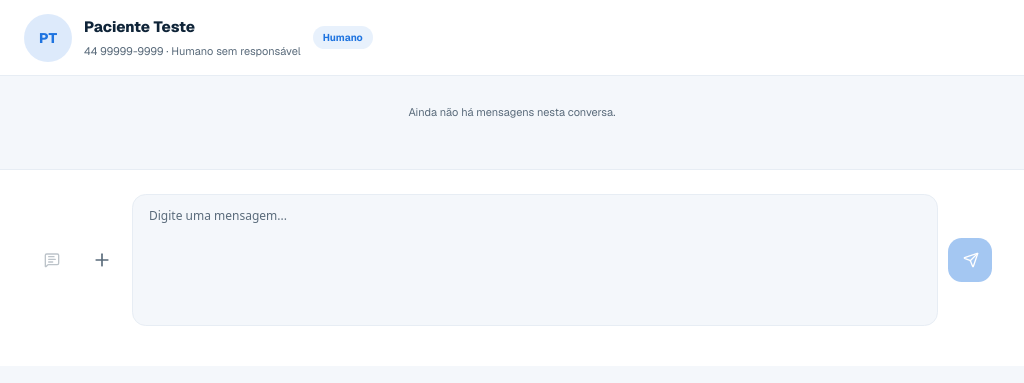
Test: ChatWindow › should_not_mount_or_fetch_meta_templates_for_uazap
The width and height of the screenshot is (1024, 383).
(page scrolled)
Click the button named "Adicionar" at (102, 260), box [82, 240, 122, 280]
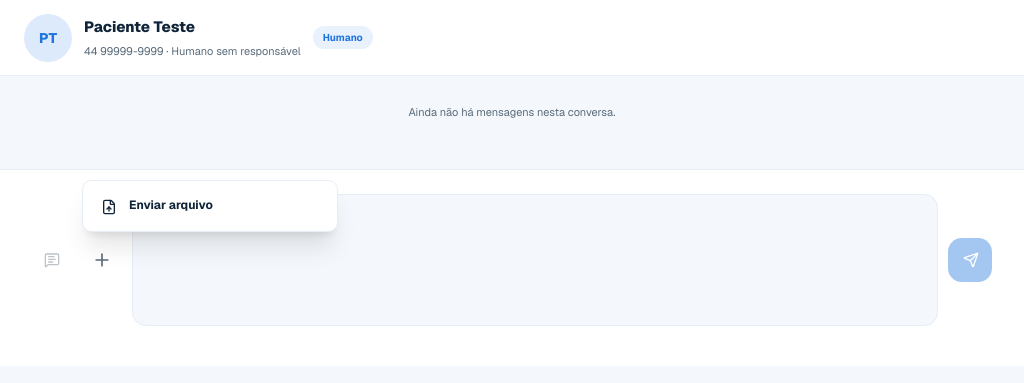
Result: the menu item "Enviar arquivo" is shown at [101, 197, 213, 215]
